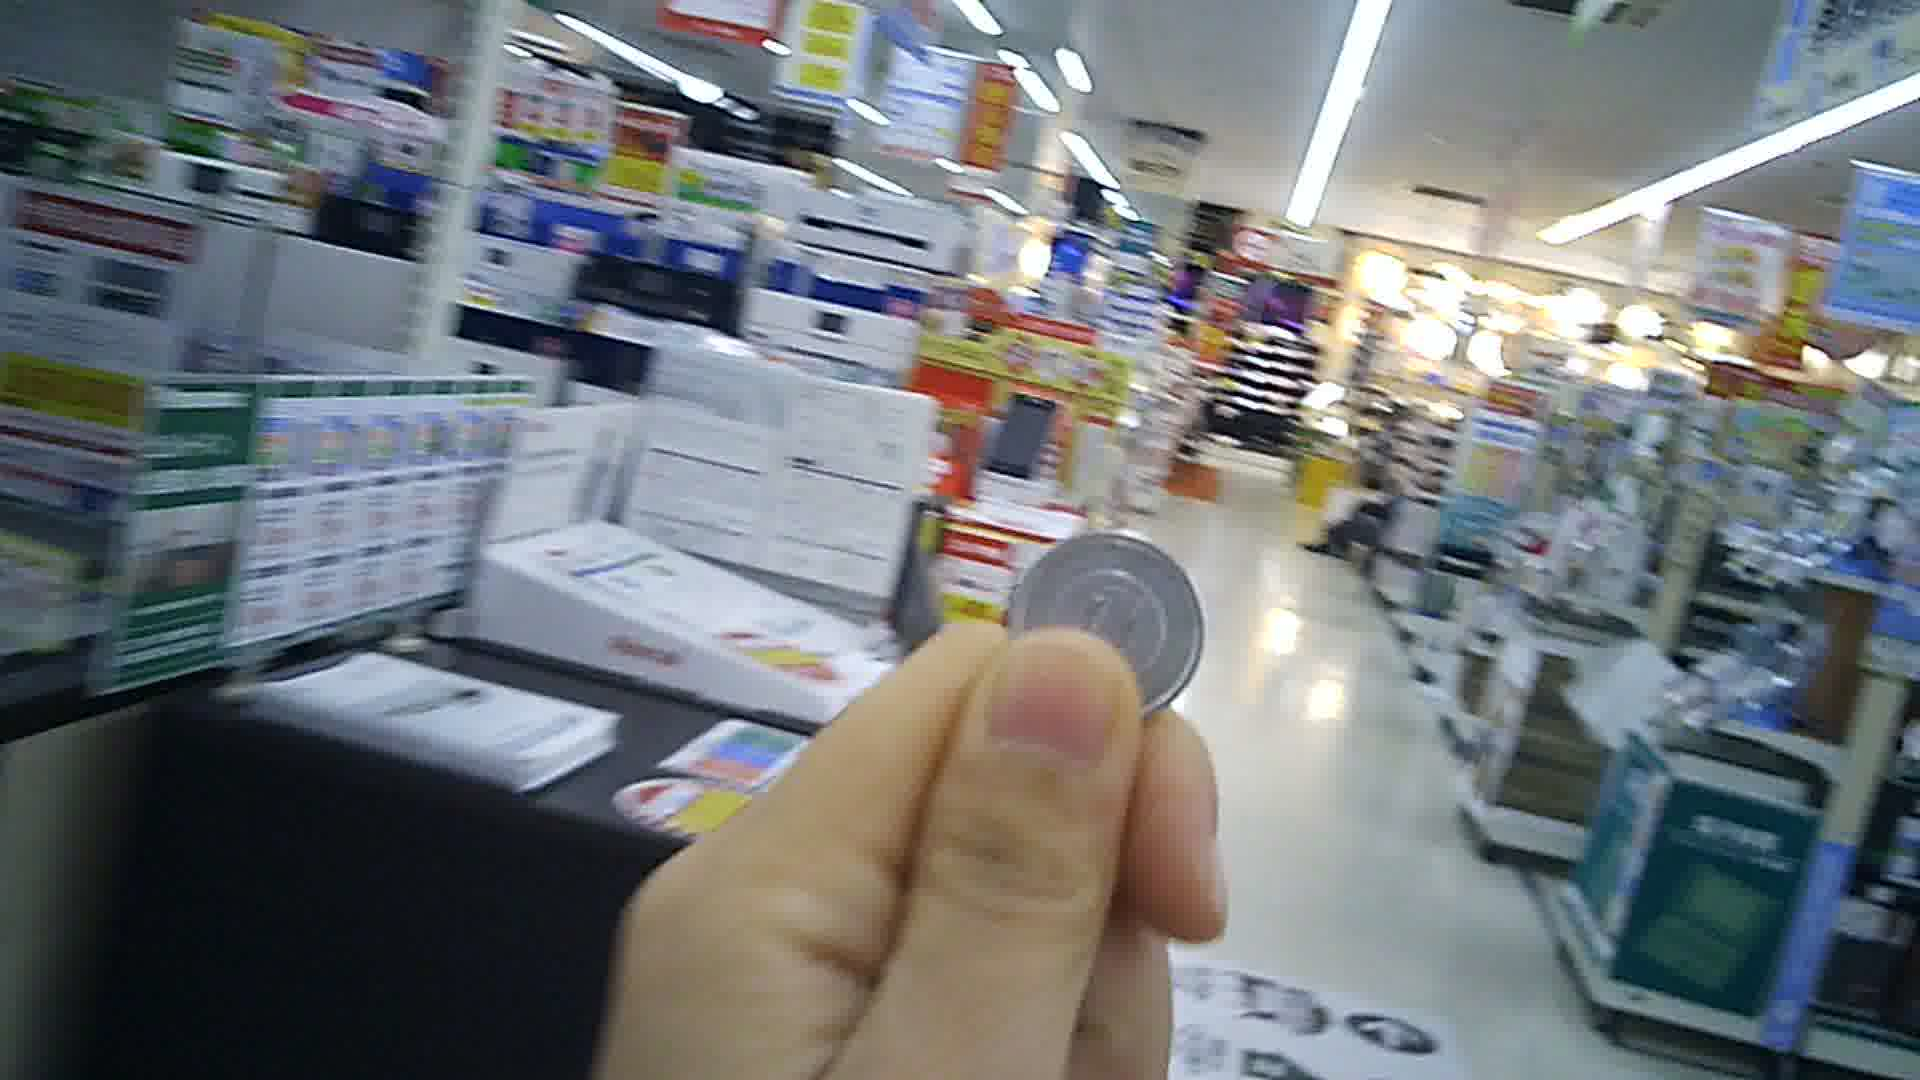1 Yen: (1005, 524, 1215, 724)
